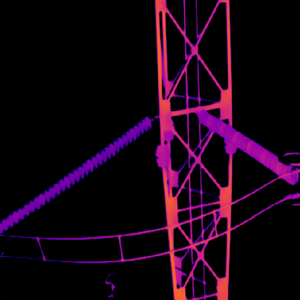insulator: (0, 113, 153, 234), (196, 108, 297, 183)
